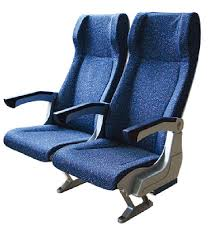seat: (12, 74, 182, 189)
